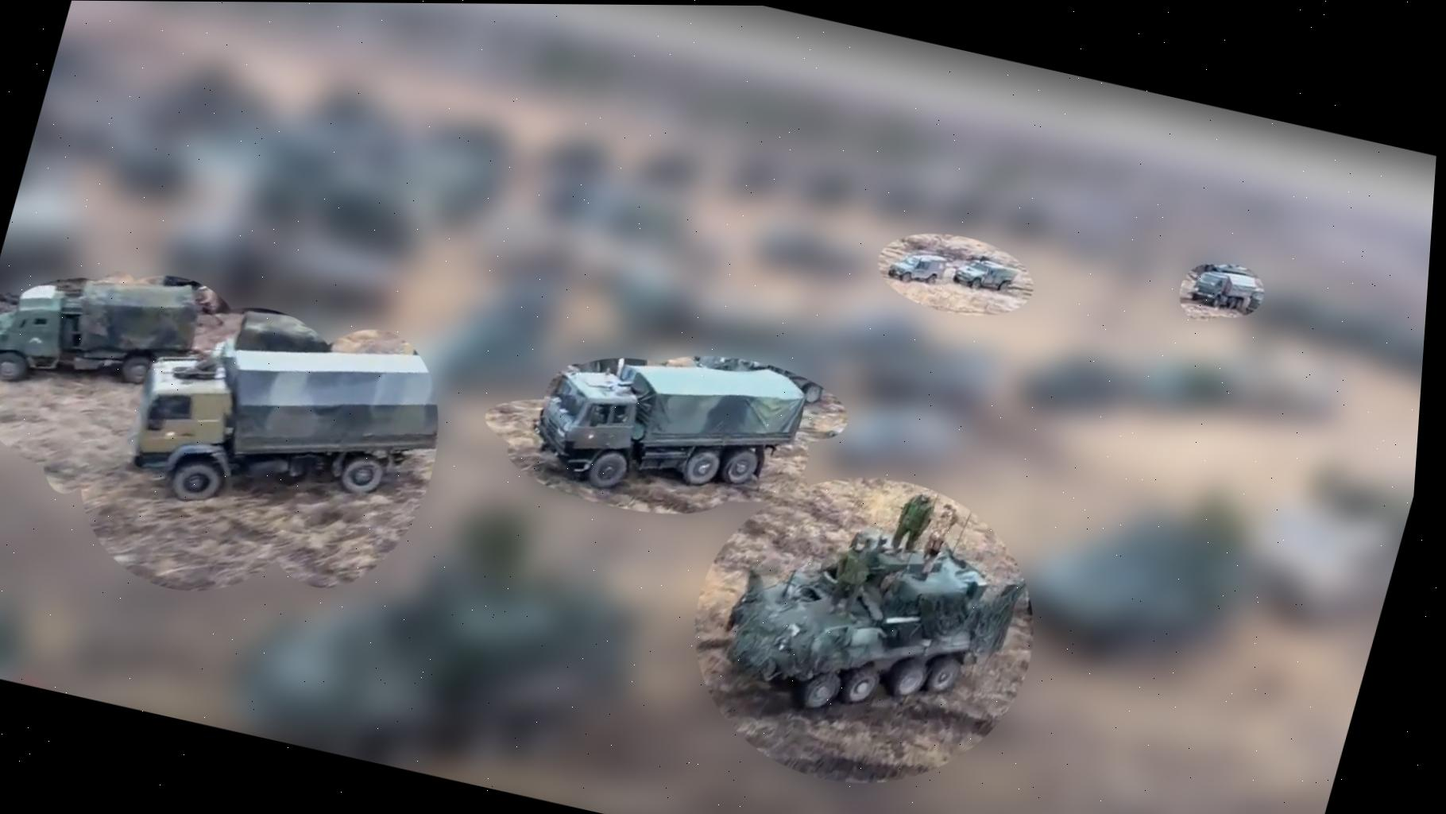armored_car: (704, 501, 1009, 745), (0, 242, 209, 414), (949, 250, 1021, 297), (882, 243, 951, 291)
truck: (112, 300, 468, 554), (520, 321, 816, 524), (1186, 262, 1261, 315)
